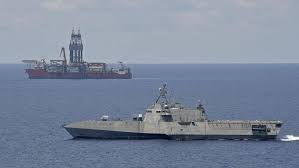tau_muctieu: (70, 86, 286, 146)
